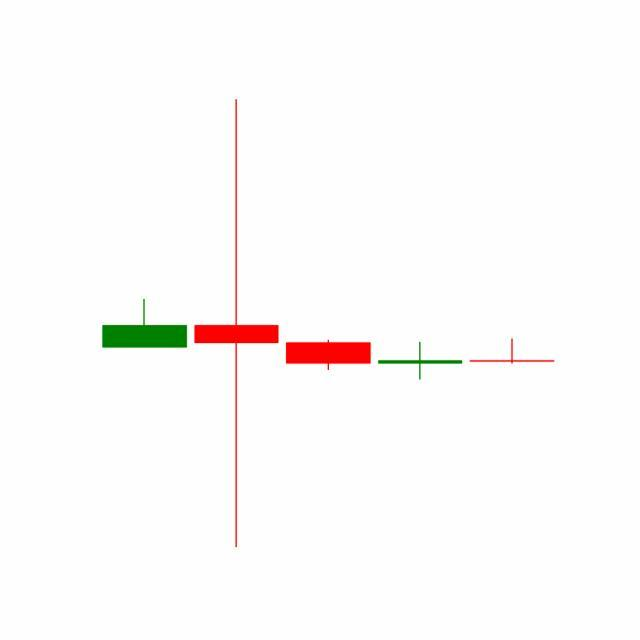Spinning Top: (466, 338, 559, 365)
